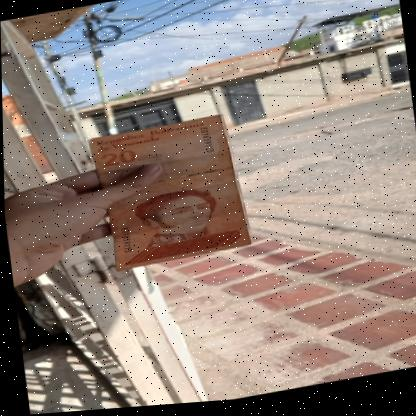twenty-front-vef: (88, 115, 250, 273)
